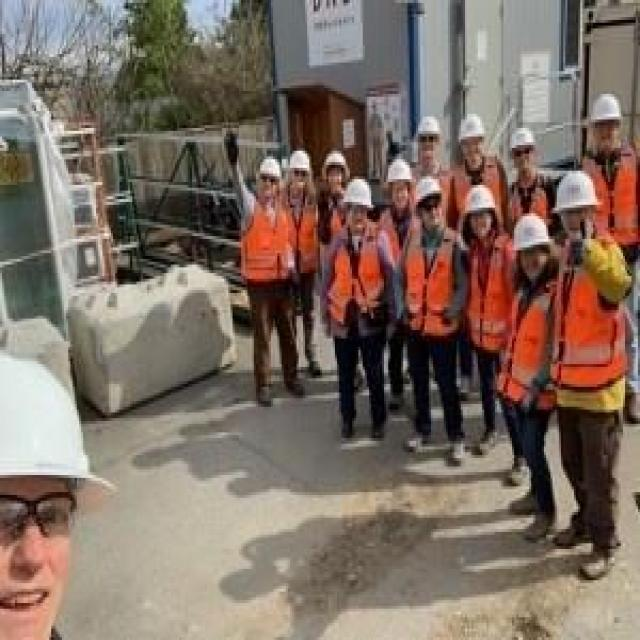helmet: (554, 168, 604, 218), (512, 212, 552, 252), (588, 91, 626, 129), (342, 172, 374, 215), (412, 176, 444, 216), (410, 114, 444, 146), (457, 113, 489, 145), (465, 183, 495, 216), (506, 126, 540, 153), (320, 150, 350, 180), (386, 156, 412, 188), (254, 156, 284, 182), (288, 148, 314, 172)
vest: (548, 240, 634, 391), (499, 280, 550, 418), (576, 145, 640, 247), (234, 186, 298, 286), (406, 228, 458, 348), (462, 232, 513, 348), (330, 220, 377, 324), (453, 157, 504, 227), (280, 190, 320, 277), (377, 196, 414, 280), (509, 174, 557, 226), (326, 188, 352, 242)
